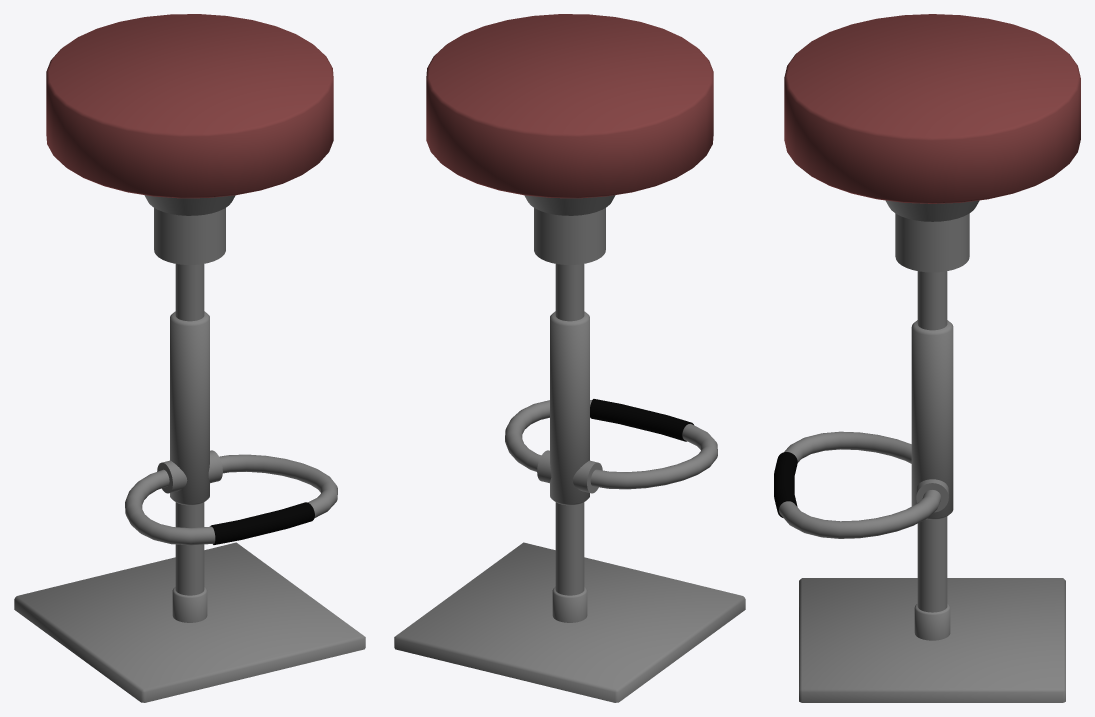
Rendered from barstool.glb.
3 renders of one model, left to right at view 1: azimuth 30°, elevation 25°; view 2: azimuth 150°, elevation 25°; view 3: azimuth 270°, elevation 25°, orthographic. The views are drawn at different scales.
Visible parts, largest first — view 1: Barstool; view 2: Barstool; view 3: Barstool.
Boxes of the visible parts, box(x1,y1,x2,y2) form: Barstool: box(14, 14, 365, 702); Barstool: box(394, 14, 745, 702); Barstool: box(774, 14, 1080, 702).
Size of the model in its own units: 2 by 4.25 by 2.07.
